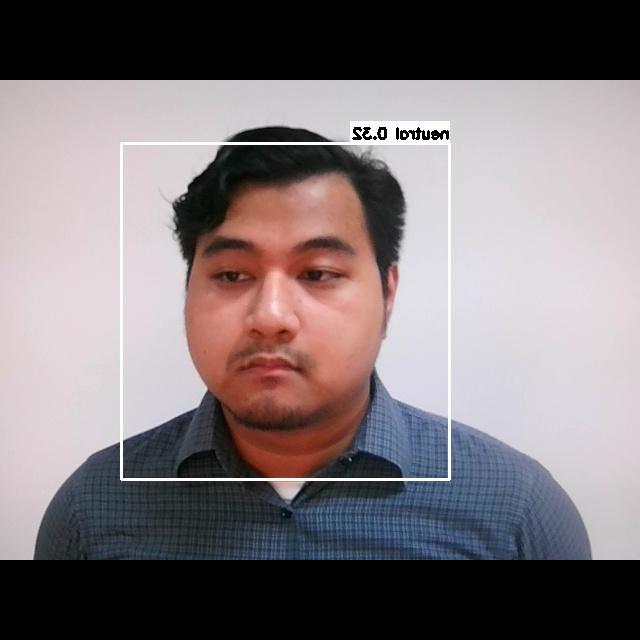Natural: (183, 214, 396, 398)
